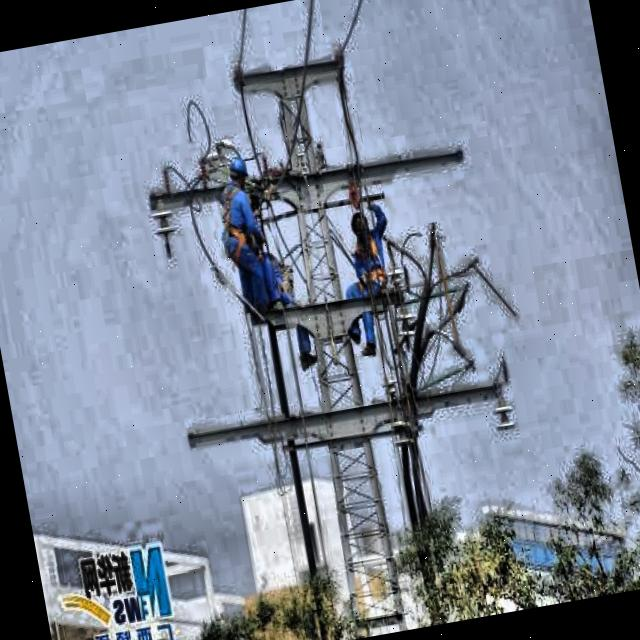helmet: (222, 147, 254, 198)
